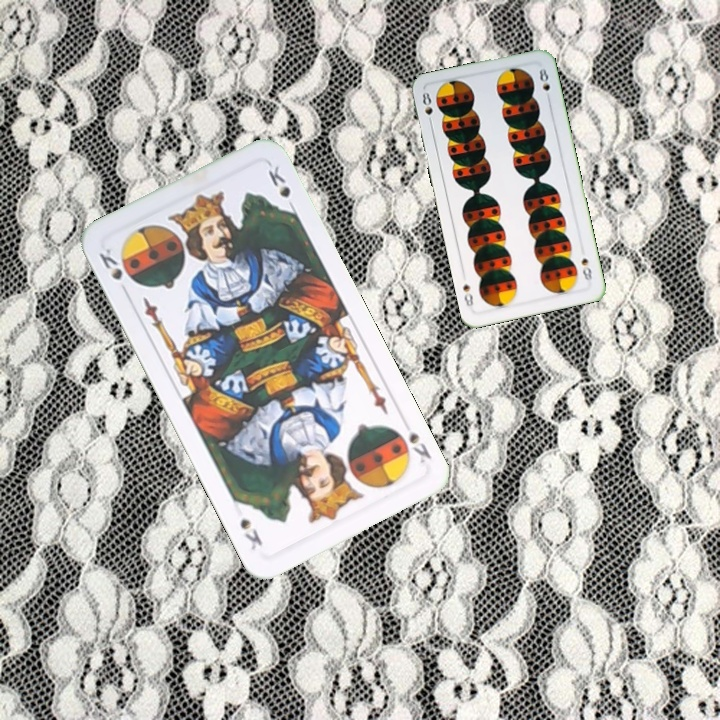S8: (418, 88, 435, 128), (577, 254, 595, 286)
SK: (95, 244, 137, 298), (404, 427, 434, 467)
